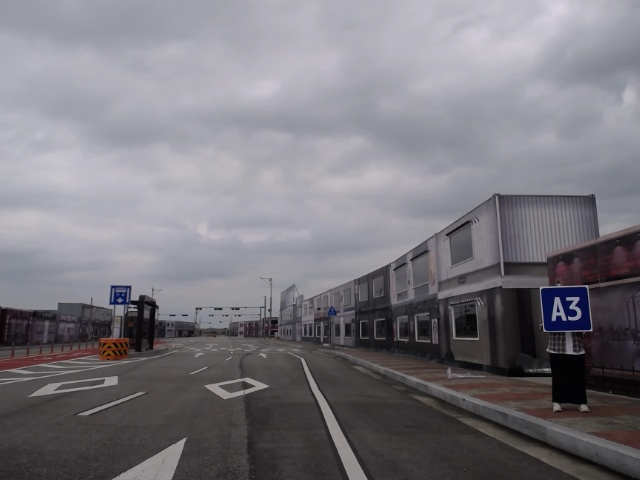delivery_a3: (540, 286, 592, 332)
